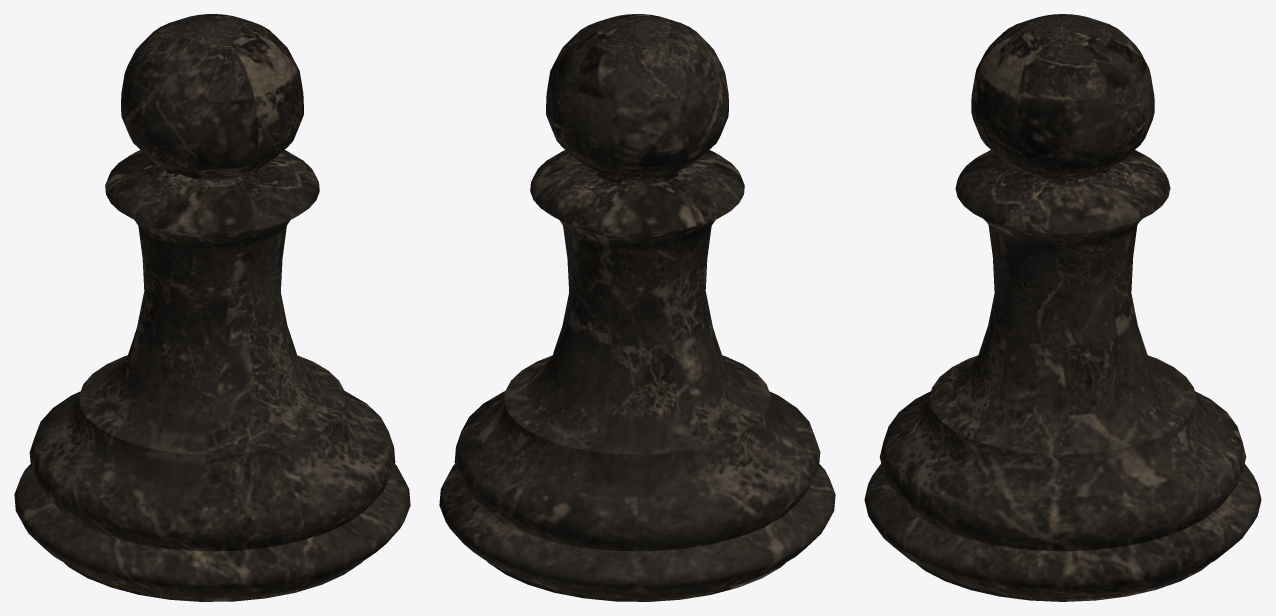
Rendered from mermer_p_b.glb.
3 views of the same model, side by side, from view 1: azimuth 30°, elevation 25°; view 2: azimuth 150°, elevation 25°; view 3: azimuth 270°, elevation 25° (orthographic).
Parts seen in each view (by area): view 1: SM_Pawn3; view 2: SM_Pawn3; view 3: SM_Pawn3.
Boxes of the visible parts, bbox=[...] form: SM_Pawn3: bbox=[14, 14, 410, 601]; SM_Pawn3: bbox=[439, 14, 835, 601]; SM_Pawn3: bbox=[864, 14, 1261, 601].
Bounding box in the file's own units: 3.27 × 4.62 × 3.27.
1 material, 1 textured.
